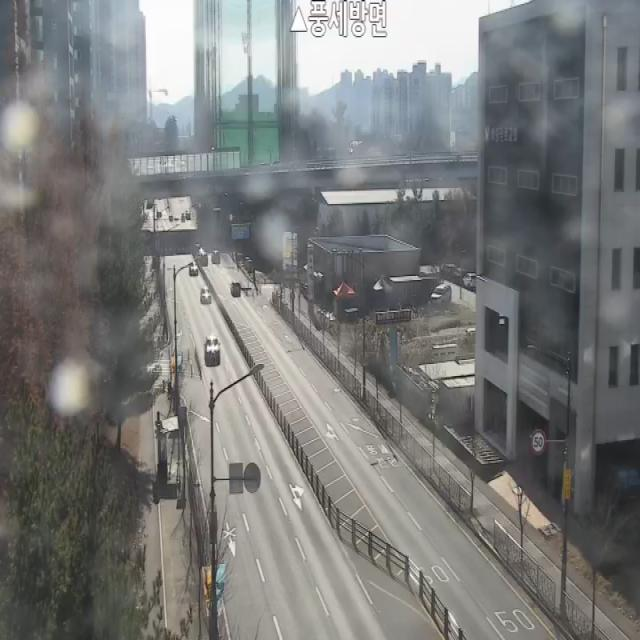Car: (203, 336, 220, 367), (431, 284, 451, 302), (200, 287, 211, 305), (230, 281, 241, 298), (189, 261, 198, 277), (212, 250, 220, 264)
